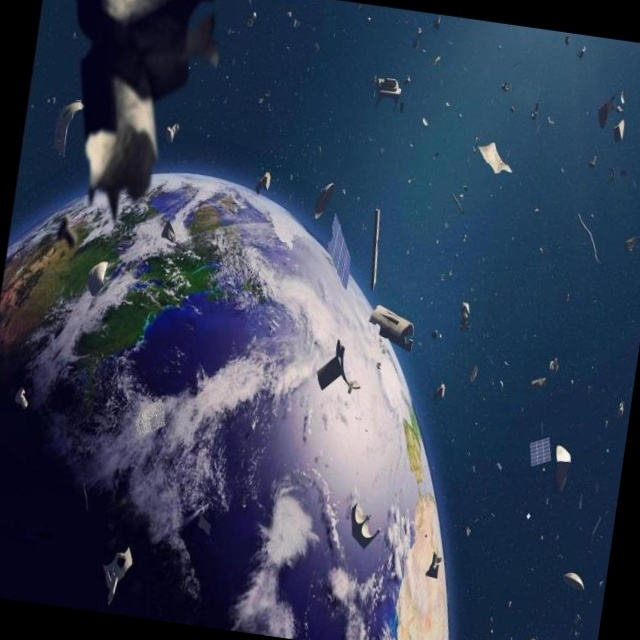large_debris: (45, 0, 230, 234), (313, 338, 366, 398), (321, 211, 359, 290), (364, 302, 418, 354), (96, 543, 136, 607), (48, 96, 85, 162), (364, 204, 389, 291), (570, 210, 609, 265), (468, 135, 518, 177), (347, 499, 385, 553), (368, 73, 404, 112), (550, 443, 574, 494), (83, 257, 109, 298), (527, 433, 555, 470), (313, 178, 336, 222), (55, 214, 82, 251), (597, 93, 617, 131), (559, 568, 588, 594), (566, 609, 588, 640), (457, 297, 475, 334), (424, 549, 444, 581), (159, 217, 180, 244), (12, 384, 32, 412), (77, 481, 95, 512), (449, 190, 468, 217), (253, 171, 272, 197), (257, 87, 276, 113), (195, 511, 214, 536), (611, 116, 627, 145), (529, 372, 549, 394), (165, 118, 181, 144), (623, 232, 640, 255), (615, 87, 628, 113), (547, 354, 562, 376), (605, 163, 619, 186), (433, 380, 447, 402), (528, 100, 542, 122), (588, 150, 600, 171), (246, 10, 259, 29), (544, 112, 557, 130), (469, 363, 480, 384), (616, 399, 627, 420), (431, 13, 443, 32), (575, 44, 588, 61), (575, 492, 586, 511), (430, 325, 441, 342), (239, 493, 250, 510), (618, 166, 630, 181), (414, 23, 426, 38), (311, 39, 322, 55), (292, 16, 303, 32), (496, 376, 506, 393), (551, 531, 563, 545), (562, 32, 573, 47), (410, 37, 421, 52), (629, 177, 640, 192), (407, 171, 417, 187), (420, 114, 431, 128), (500, 80, 511, 94), (432, 53, 443, 67), (597, 574, 606, 591), (402, 72, 412, 87), (464, 523, 474, 538), (564, 288, 574, 303), (495, 460, 505, 474), (338, 184, 348, 198), (533, 204, 542, 218), (284, 7, 293, 21), (447, 266, 456, 280), (462, 230, 470, 245), (444, 99, 453, 111), (399, 99, 406, 114), (537, 243, 545, 256), (508, 104, 518, 114), (438, 271, 447, 282), (456, 109, 464, 121), (503, 358, 511, 370), (507, 631, 517, 640), (365, 13, 373, 24), (506, 597, 514, 608), (524, 634, 538, 640), (481, 634, 490, 640), (247, 0, 256, 6), (329, 209, 330, 211)
